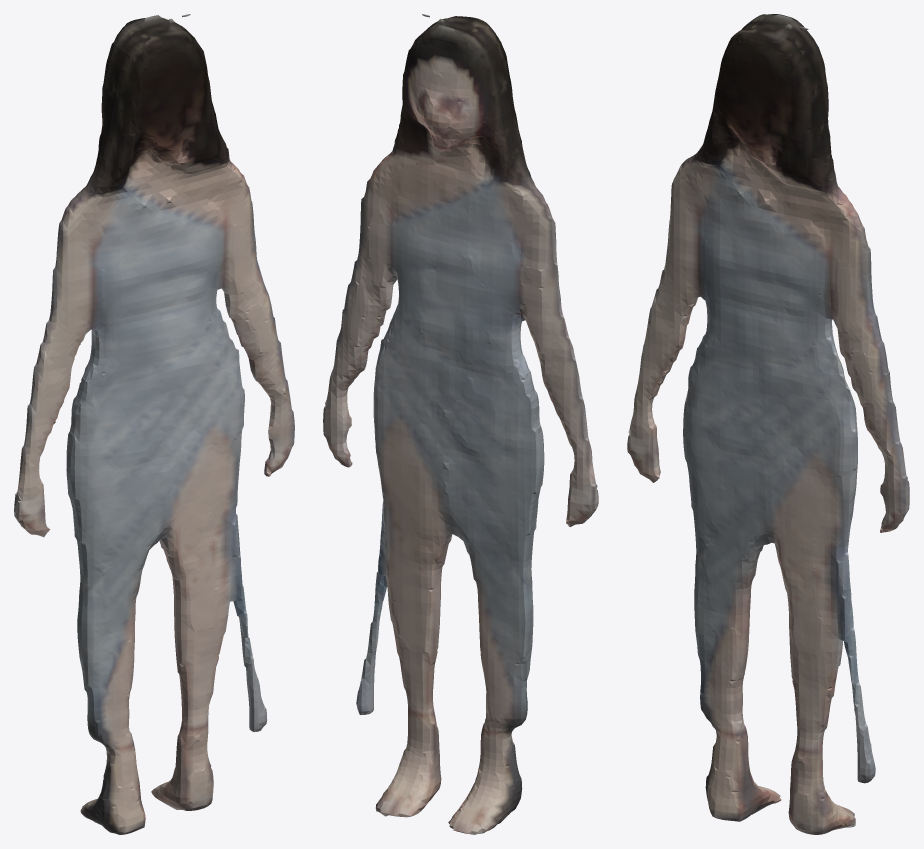
The model's file is resident.glb.
3 renders of one model, left to right at view 1: azimuth 30°, elevation 25°; view 2: azimuth 150°, elevation 25°; view 3: azimuth 330°, elevation 25°, orthographic. The views are drawn at different scales.
Parts seen in each view (by area): view 1: world; view 2: world; view 3: world.
Part boxes in pixels (x1,y1,x2,y2): world: [14, 14, 294, 834]; world: [323, 14, 598, 834]; world: [627, 14, 909, 834].
Size of the model in its own units: 0.7272 by 2.01 by 0.2203.
